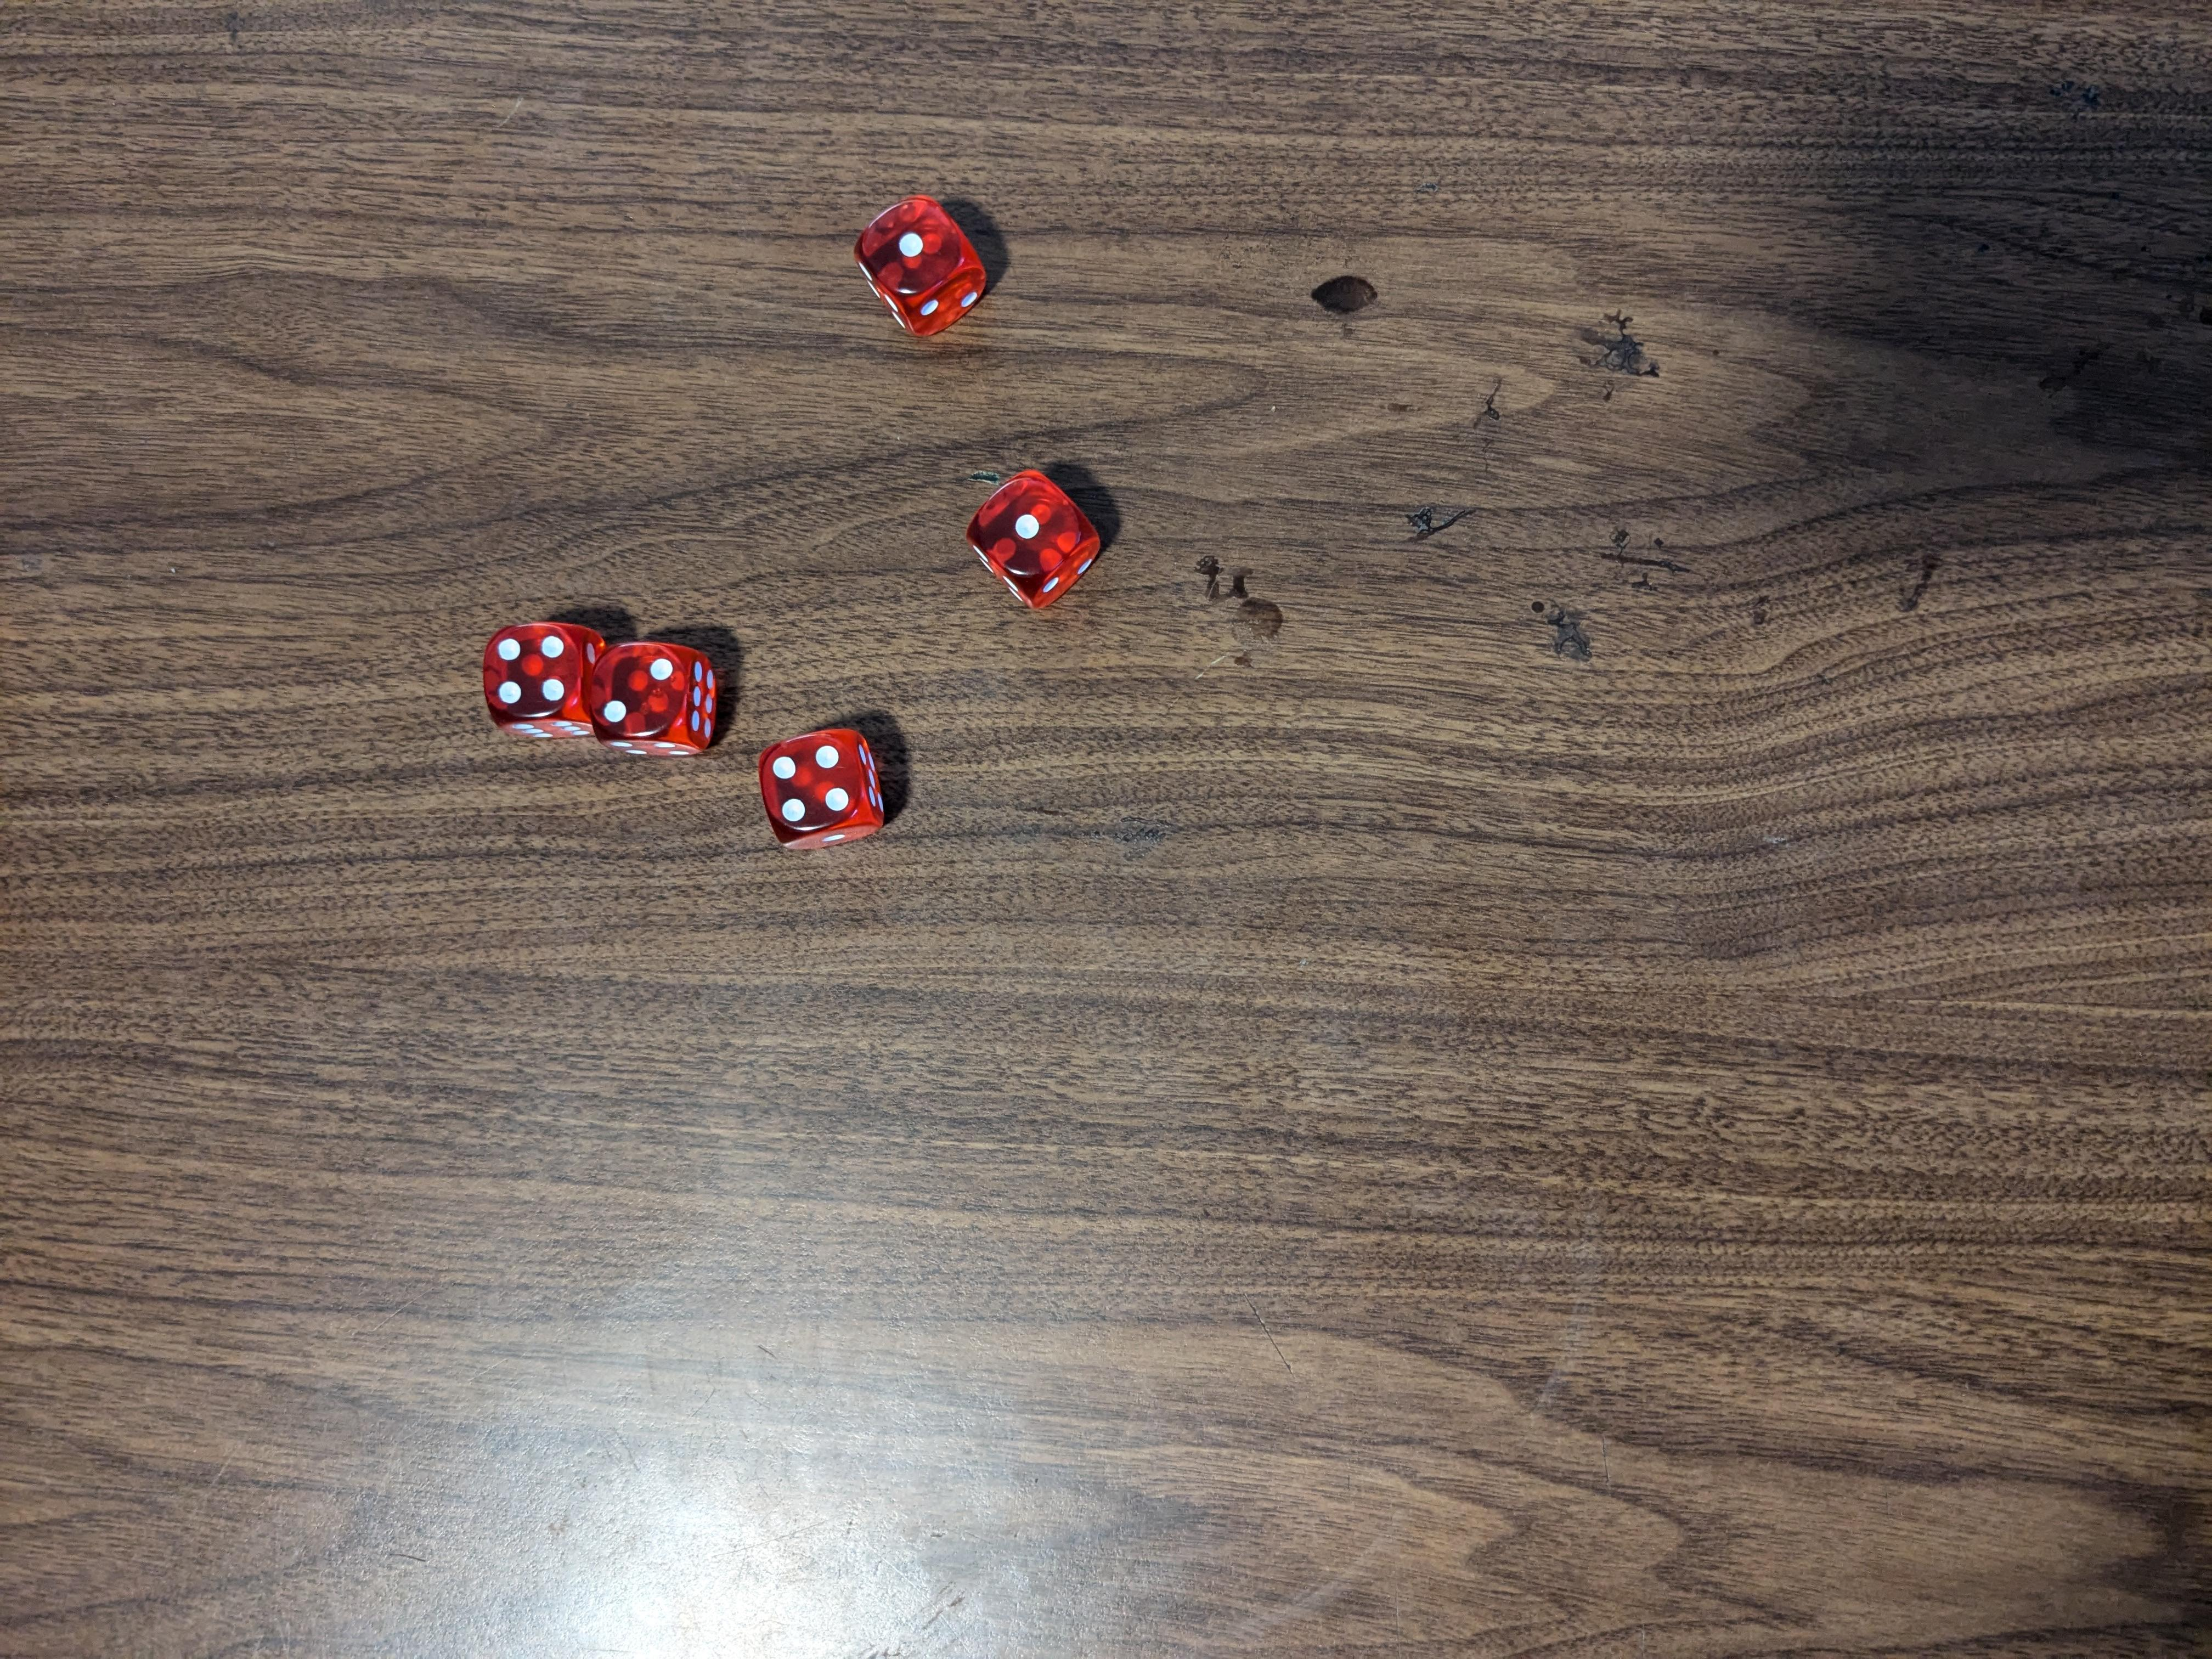four: (756, 727, 895, 852), (486, 617, 603, 749)
one: (963, 462, 1109, 613), (853, 190, 996, 338)
two: (601, 636, 721, 755)
